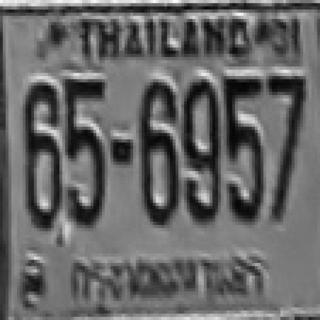N00: (66, 128, 106, 223), (181, 78, 218, 163)
N05: (64, 76, 106, 158), (224, 74, 260, 157)
N07: (266, 74, 303, 157)
